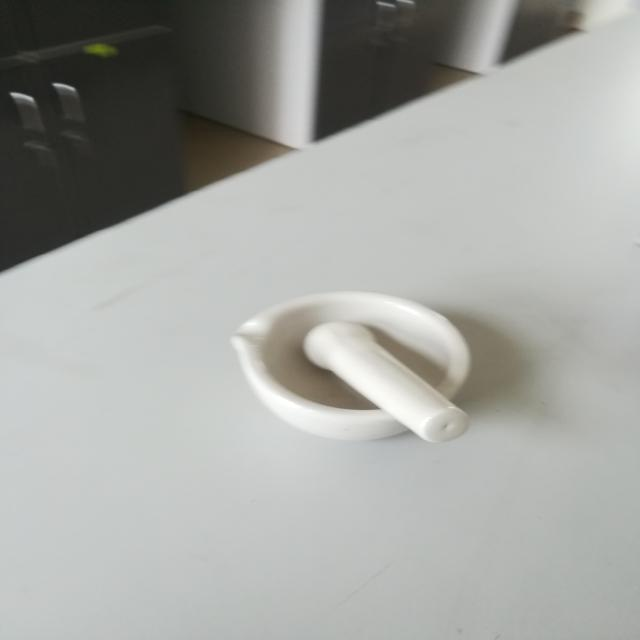Porcelain_Mortar Pestle: (196, 258, 509, 490)
